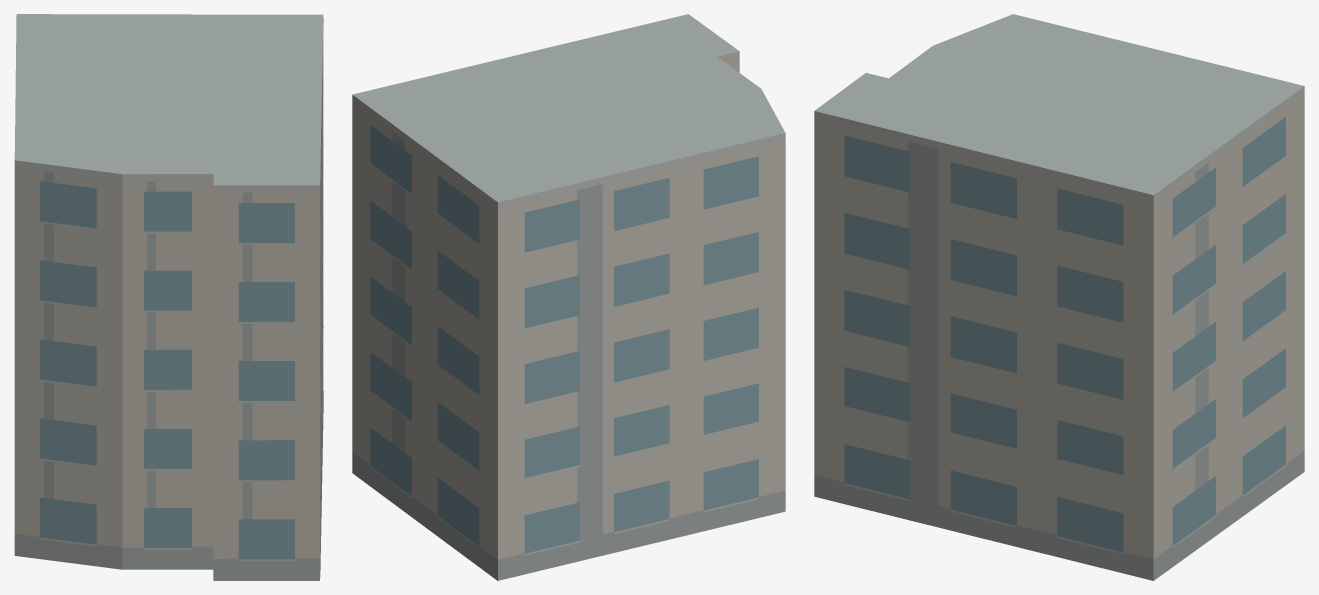
The model's file is survey-upis-32530549.glb.
The picture shows the model from 3 angles, left to right: view 1: azimuth 30°, elevation 25°; view 2: azimuth 150°, elevation 25°; view 3: azimuth 270°, elevation 25°; orthographic projection. The views are drawn at different scales.
Parts seen in each view (by area): view 1: survey-upis-32530549.tmp; view 2: survey-upis-32530549.tmp; view 3: survey-upis-32530549.tmp.
Part boxes in pixels (<box>): survey-upis-32530549.tmp: <box>14,14,323,580</box>; survey-upis-32530549.tmp: <box>352,14,785,580</box>; survey-upis-32530549.tmp: <box>814,14,1304,580</box>.
Bounding box in the file's own units: 13.25 × 13.15 × 15.16.
